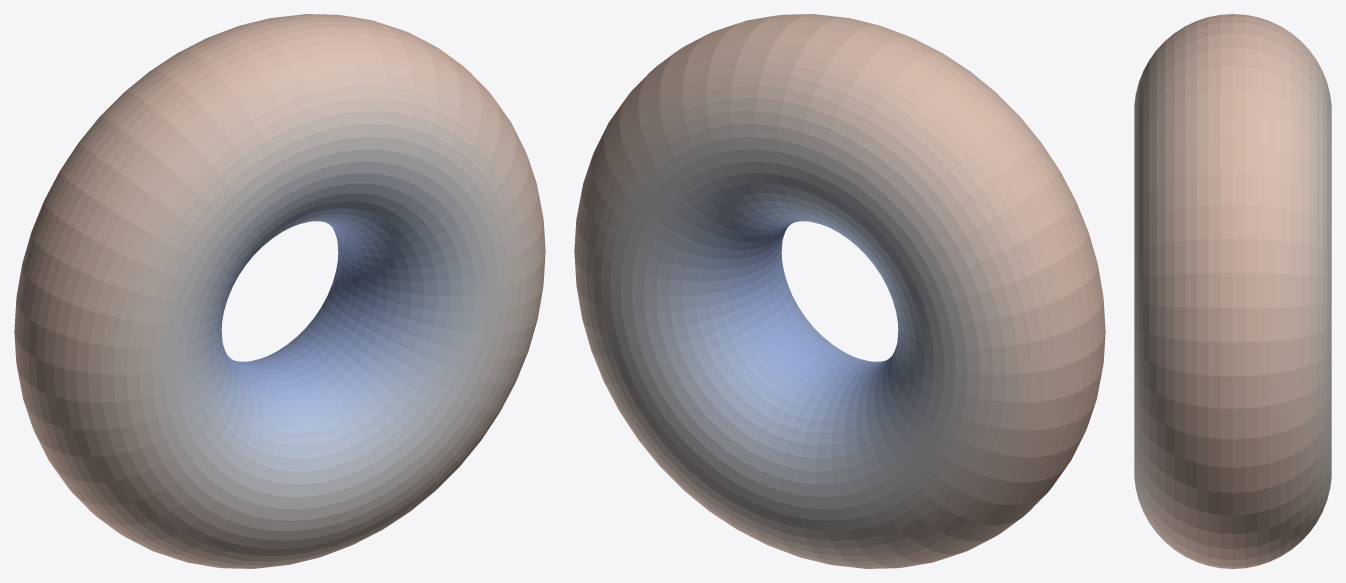
3 renders of one model, left to right at view 1: azimuth 30°, elevation 25°; view 2: azimuth 150°, elevation 25°; view 3: azimuth 270°, elevation 25°, orthographic. The views are drawn at different scales.
Parts seen in each view (by area): view 1: world; view 2: world; view 3: world.
Boxes of the visible parts, x1,y1,x2,y2 form: world: (14, 14, 545, 568); world: (574, 14, 1105, 568); world: (1134, 14, 1331, 568).
Bounding box in the file's own units: 22.8 × 22.76 × 8.12.
